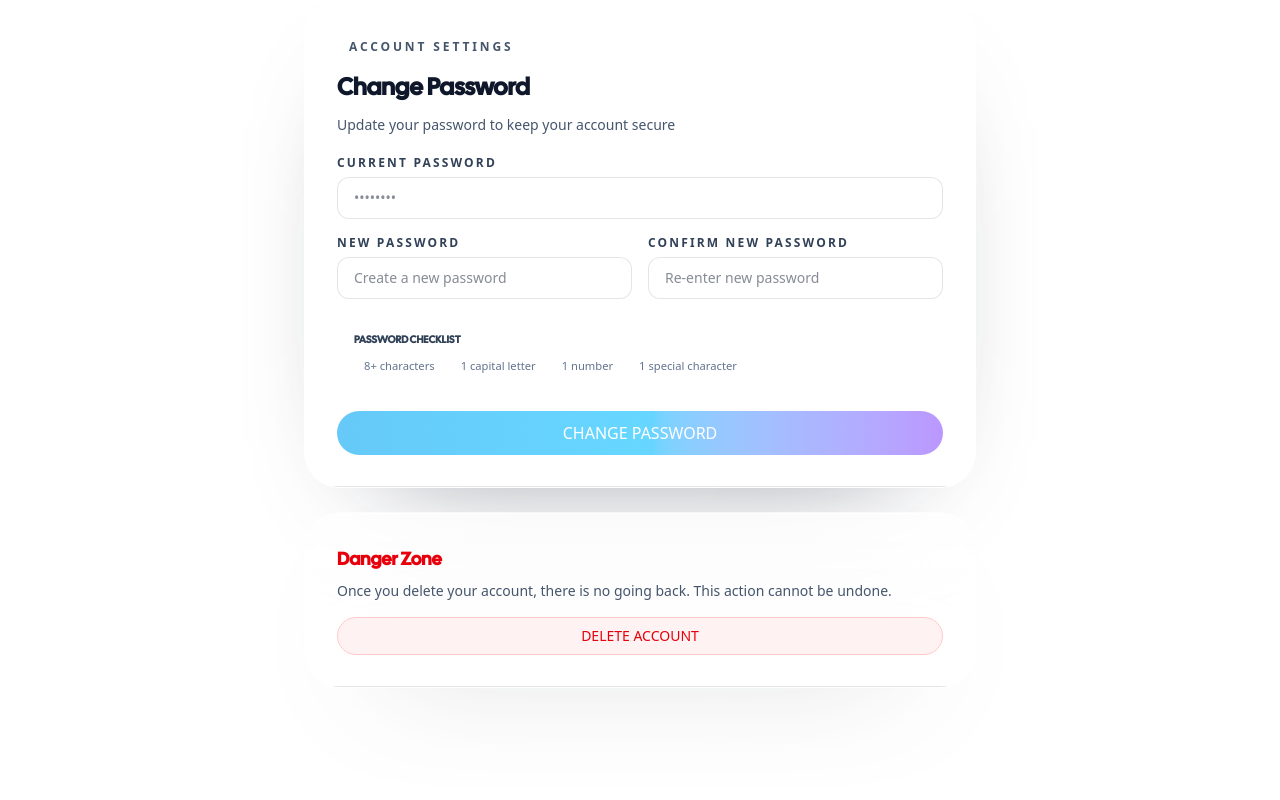
Test case: SettingsPage - Account Deletion › Modal behavior › closes modal when backdrop clicked
The image size is (1280, 800).
Click the button "Delete Account" at (640, 636), box [337,617,943,655]
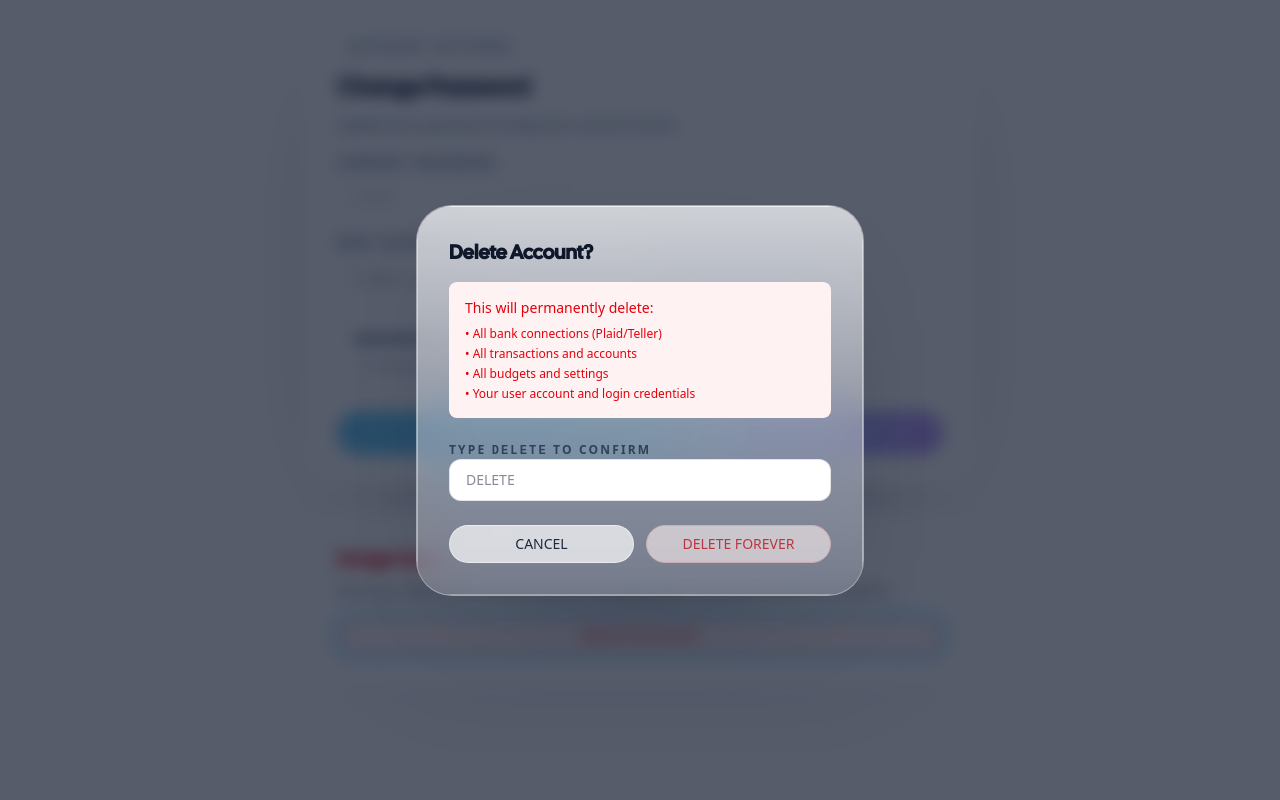
Click the button with test id "modal-backdrop" at (77, 400), box [0,0,1279,799]
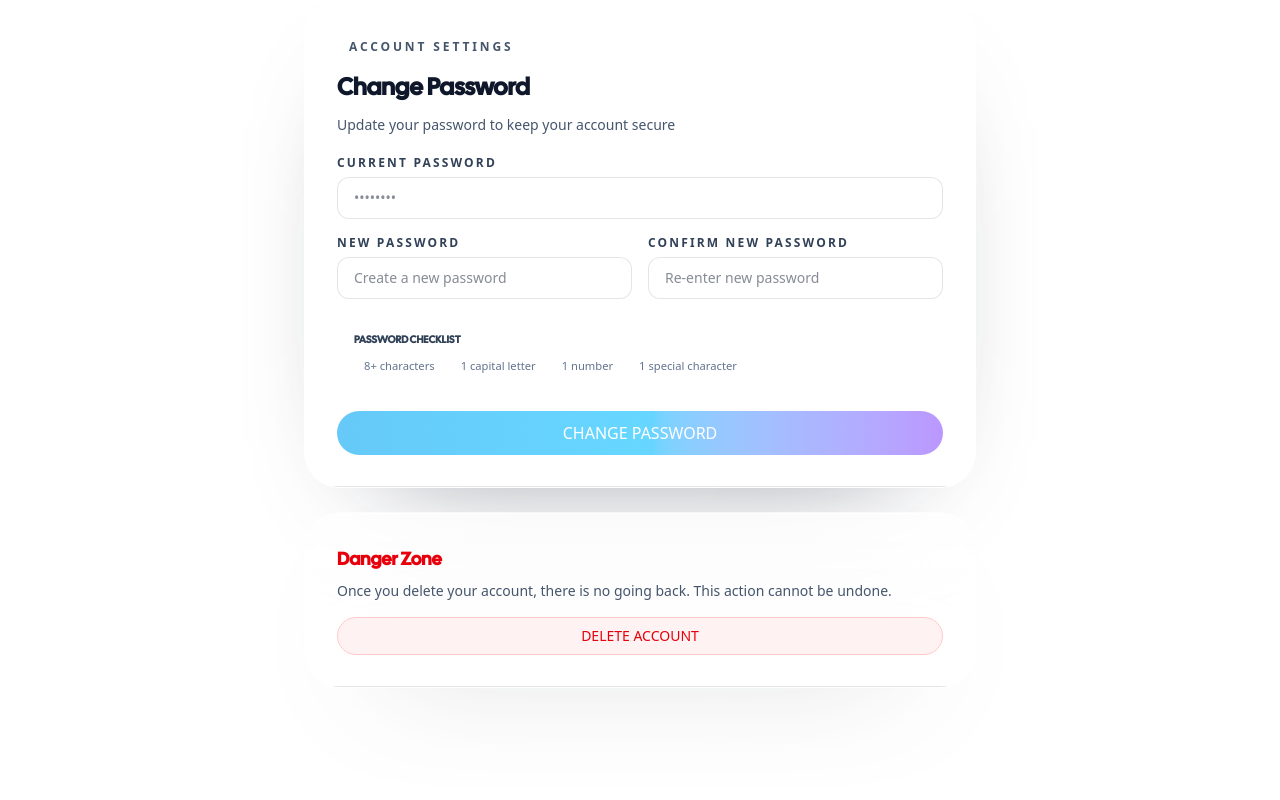
Now the heading "Delete Account?" is gone
